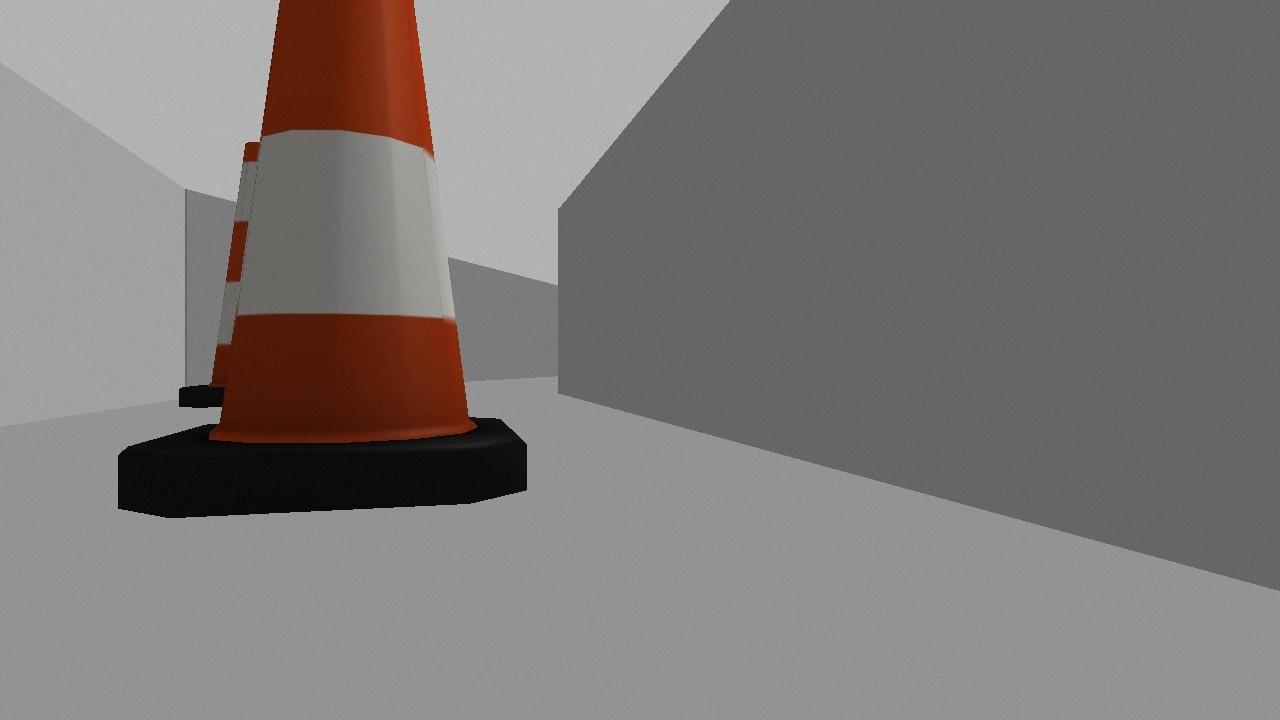cone_barrel: (91, 0, 544, 528), (173, 139, 308, 413)
